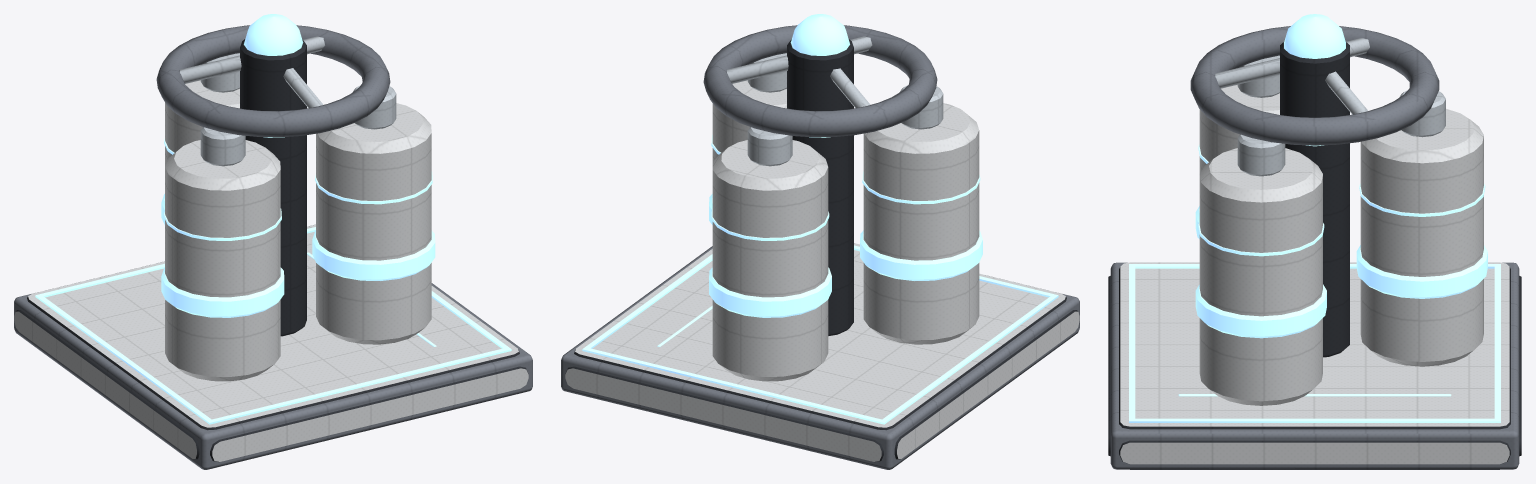
The model's file is R4X_ChargeRegenerator.glb.
3 renders of one model, left to right at view 1: azimuth 30°, elevation 25°; view 2: azimuth 150°, elevation 25°; view 3: azimuth 270°, elevation 25°, orthographic. The views are drawn at different scales.
Parts seen in each view (by area): view 1: R4X_ChargeRegenerator_Body; view 2: R4X_ChargeRegenerator_Body; view 3: R4X_ChargeRegenerator_Body.
Part boxes in pixels (x1,y1,x2,y2): R4X_ChargeRegenerator_Body: (14,14,532,469); R4X_ChargeRegenerator_Body: (561,14,1079,469); R4X_ChargeRegenerator_Body: (1108,14,1521,469).
Size of the model in its own units: 0.52 by 0.515 by 0.52.
5 materials, 4 textured.
